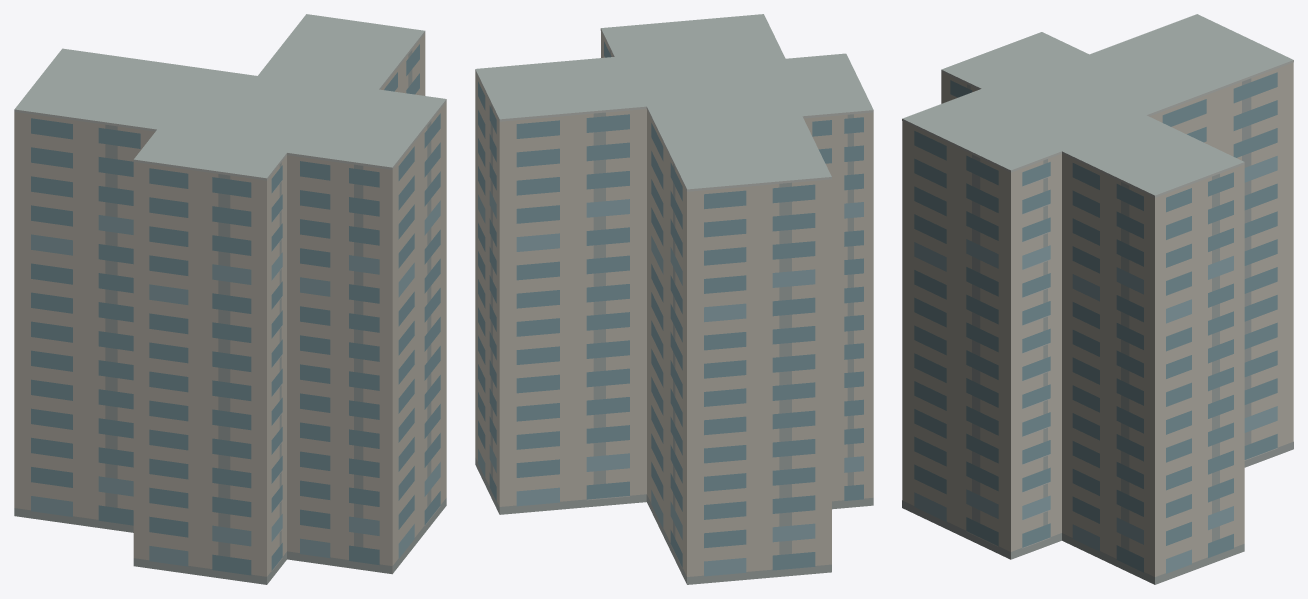
File: residential-64167ad0-d162-4342-b381-e28570f0d581.glb
3 renders of one model, left to right at view 1: azimuth 30°, elevation 25°; view 2: azimuth 150°, elevation 25°; view 3: azimuth 270°, elevation 25°, orthographic. The views are drawn at different scales.
Parts seen in each view (by area): view 1: residential-64167ad0-d162-4342-b381-e28570f0d581.tmp; view 2: residential-64167ad0-d162-4342-b381-e28570f0d581.tmp; view 3: residential-64167ad0-d162-4342-b381-e28570f0d581.tmp.
Part boxes in pixels (bbox=[...]): residential-64167ad0-d162-4342-b381-e28570f0d581.tmp: bbox=[14, 14, 446, 584]; residential-64167ad0-d162-4342-b381-e28570f0d581.tmp: bbox=[475, 14, 873, 584]; residential-64167ad0-d162-4342-b381-e28570f0d581.tmp: bbox=[902, 14, 1293, 584].
Size of the model in its own units: 41.03 by 41 by 37.39.
